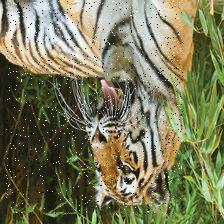tiger: (6, 0, 183, 213)
